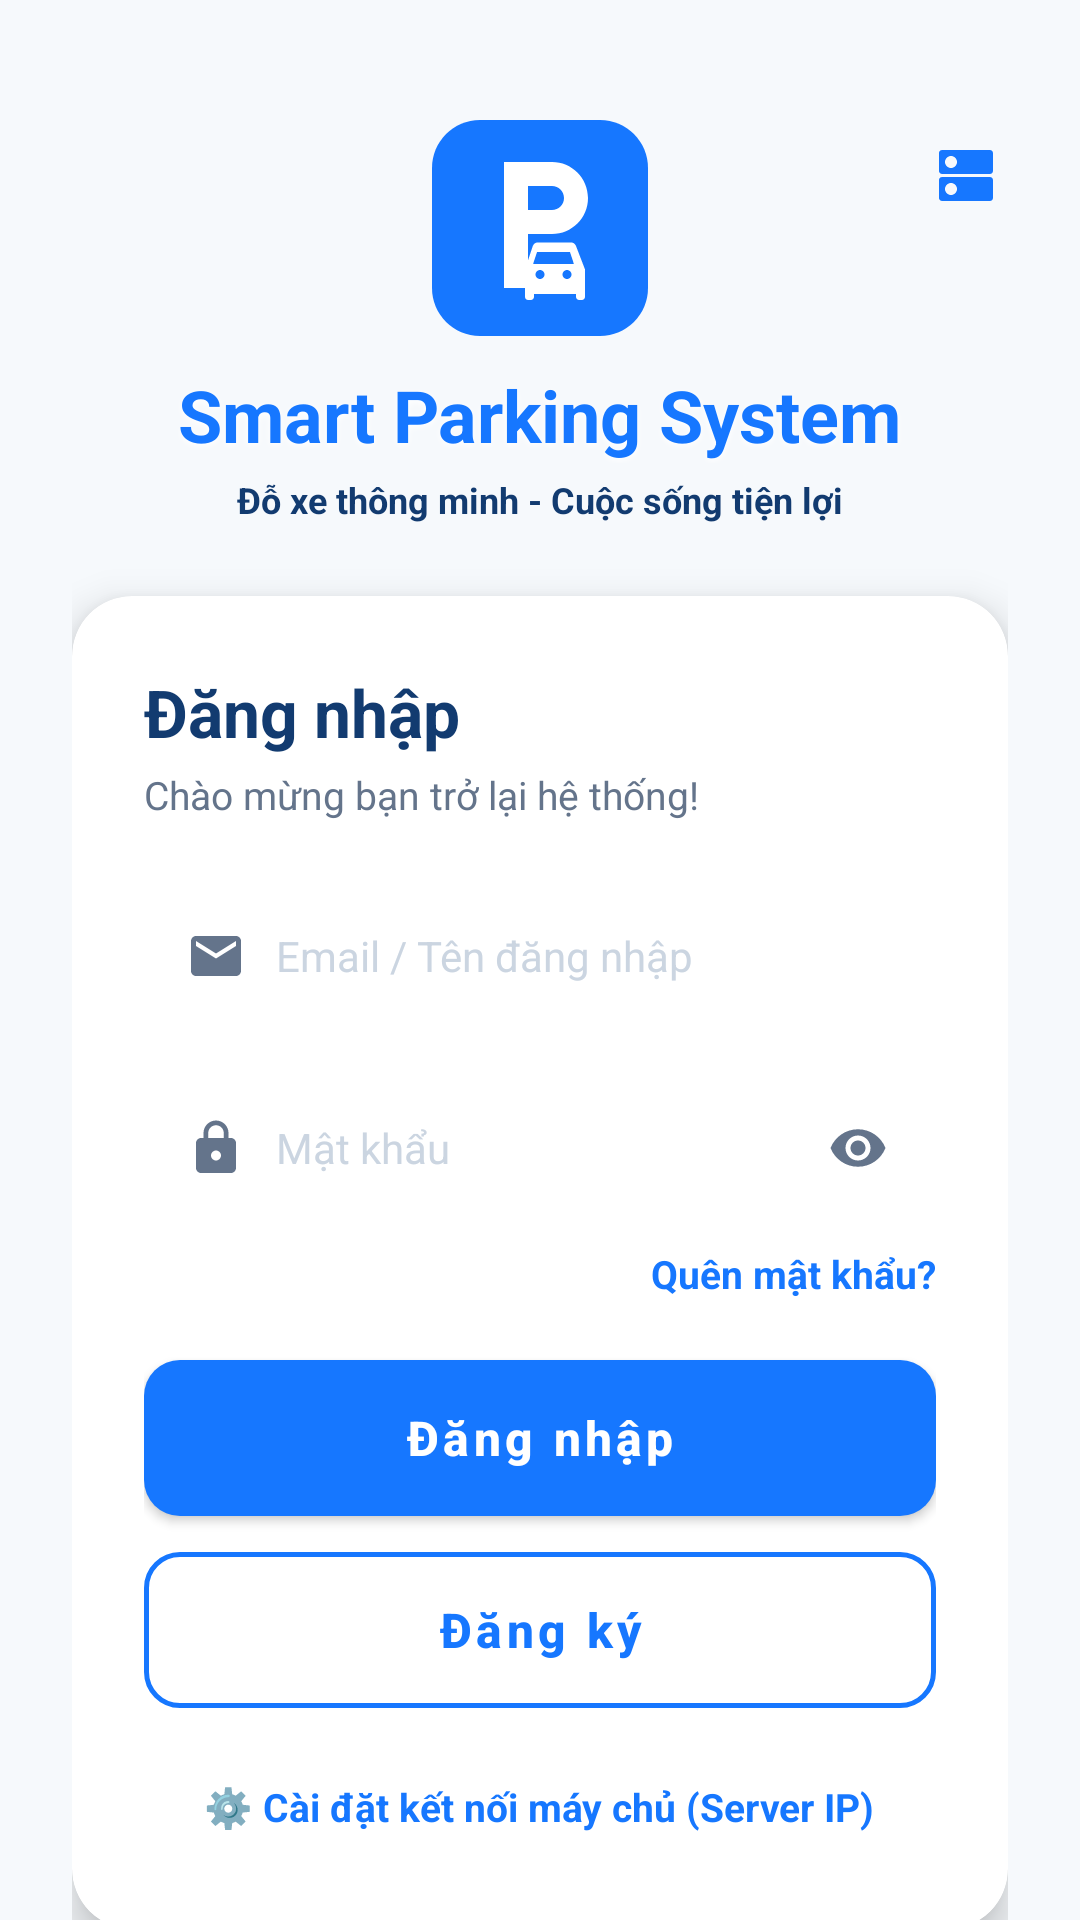

Icons on this 1080 x 1920 Android screen, each with its box as (x1, y1, x2, y2):
Cài đặt kết nối máy chủ: (939, 150, 993, 201)
Password: (196, 1120, 236, 1173)
